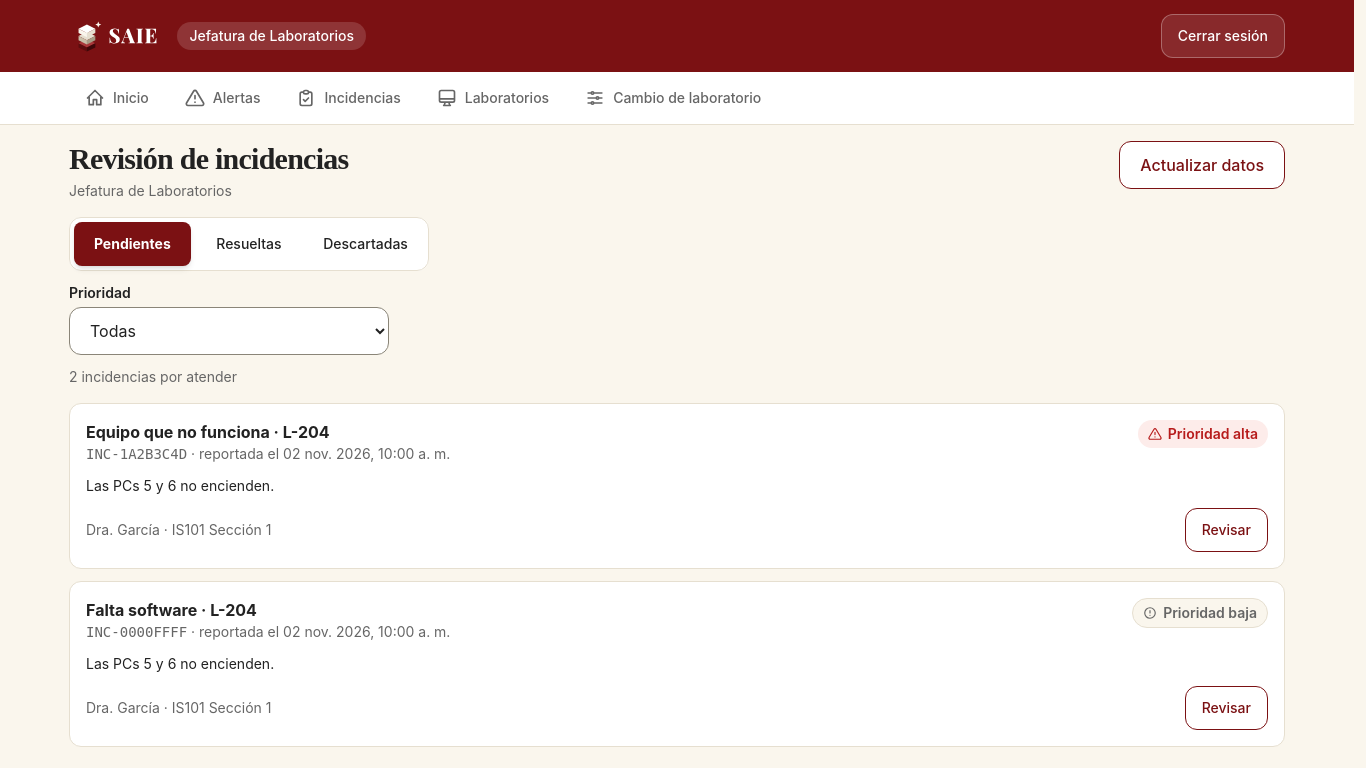
Test: Revisión de incidencias por Jefatura (Issues 7.11 y 7.12) › resolver exige un comentario y quita la incidencia sin recargar
Click the button with aria-label "Revisar incidencia INC-1A2B3C4D" at (1226, 530), box [1185, 508, 1268, 552]
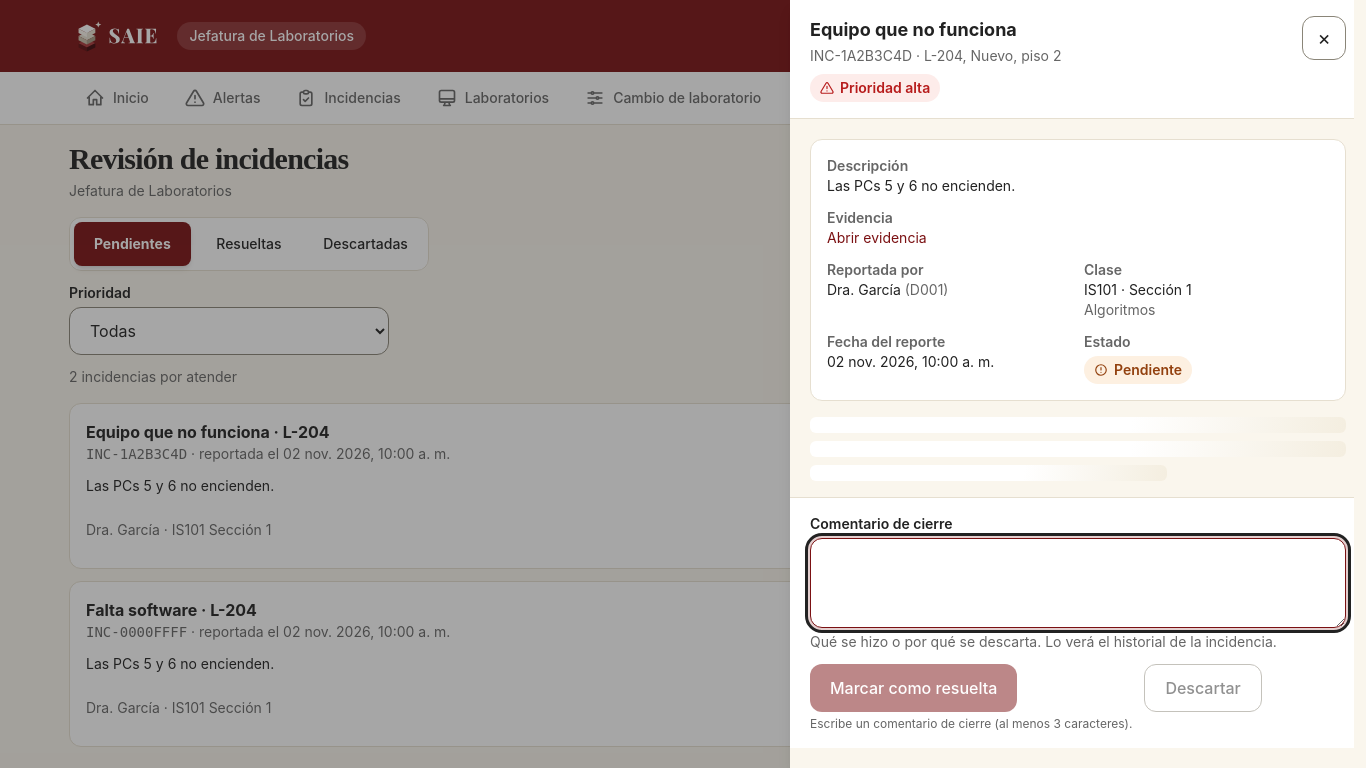
expect the button "Marcar como resuelta" is disabled: met, box [810, 664, 1017, 712]
Type "Se cambiaron las fuentes." into the text box labelled "Comentario de cierre" at (1078, 583), box [810, 538, 1346, 628]
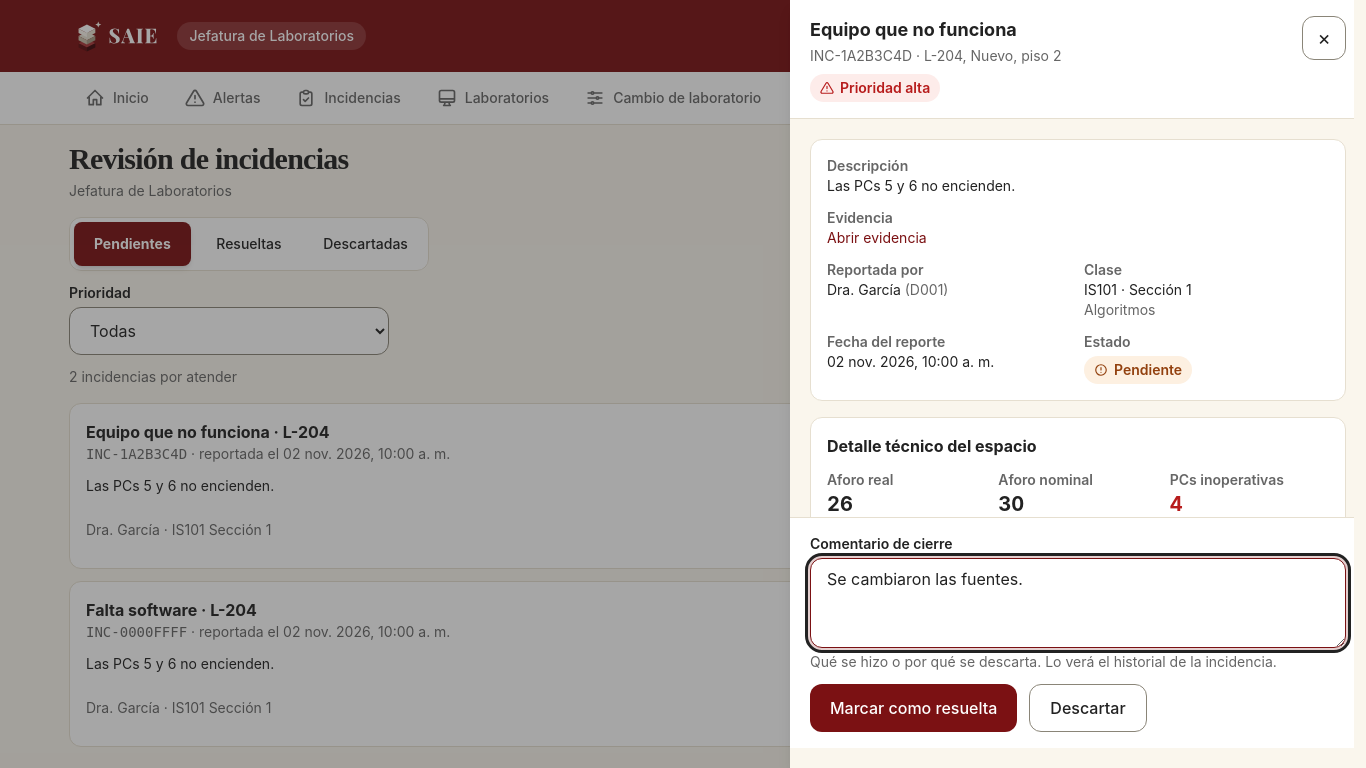
Click the button "Marcar como resuelta" at (914, 708), box [810, 684, 1017, 732]
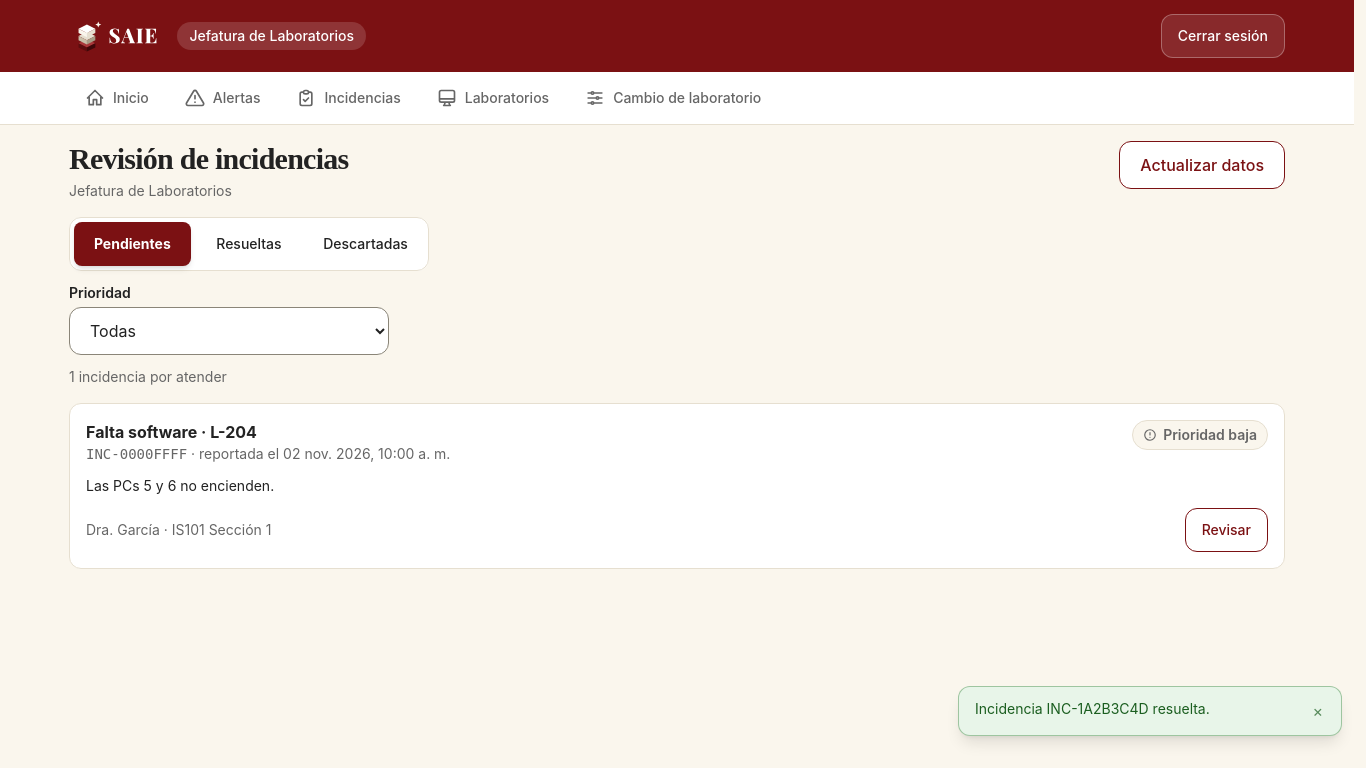
expect the text "1 incidencia por atender" is shown: met, box [69, 368, 227, 385]
